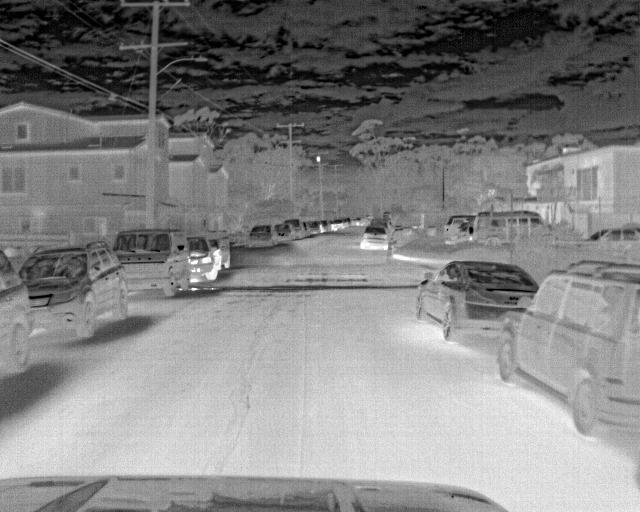car: (495, 259, 638, 440), (412, 261, 538, 344), (16, 241, 119, 342), (111, 225, 190, 301), (0, 245, 35, 376), (470, 210, 549, 249), (187, 232, 224, 286), (579, 226, 639, 247), (358, 223, 391, 251), (446, 214, 476, 244), (207, 237, 233, 270), (245, 224, 280, 247), (282, 218, 304, 239), (317, 219, 331, 234)
